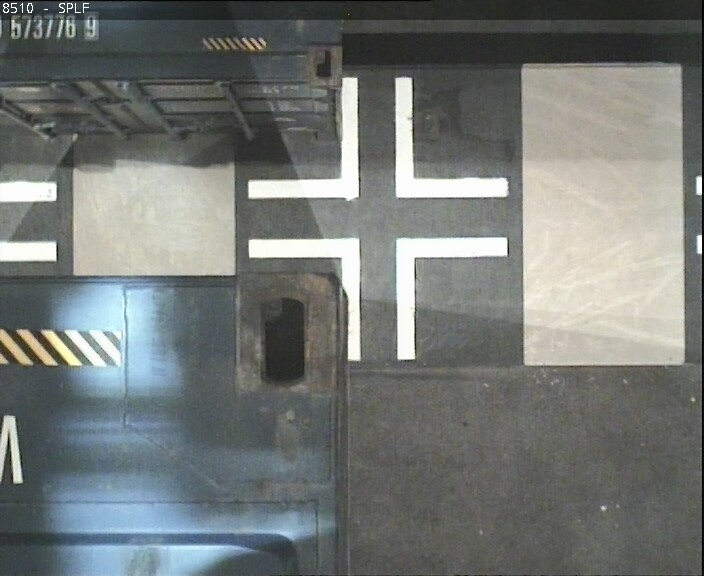groundmarker_1: (248, 237, 509, 358), (249, 77, 509, 198)
